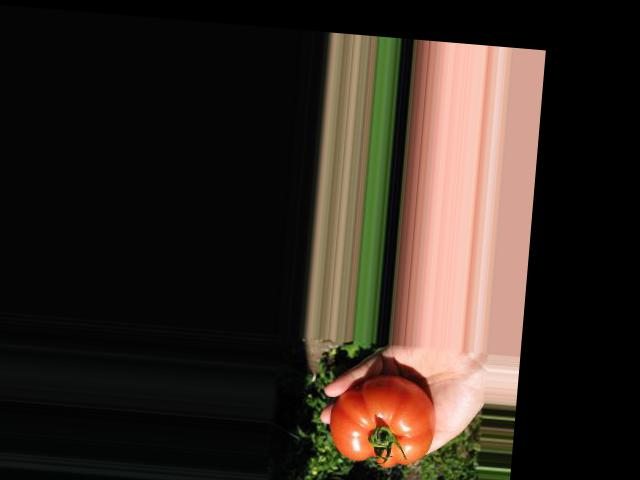tomato: (326, 371, 437, 470)
